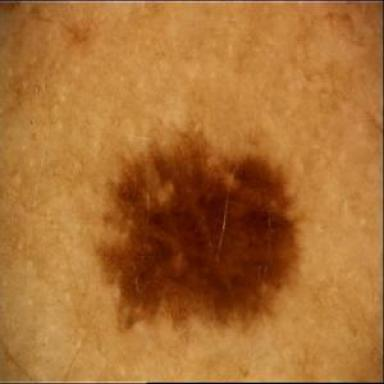Melanoma: (97, 127, 299, 328)
